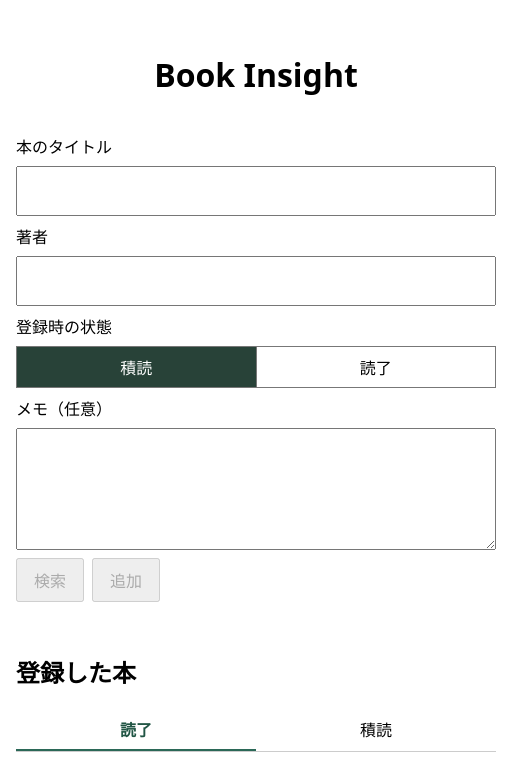
App › 一覧は読了を初期表示し、積読との間で切り替える
Click the button "積読" below "登録した本".
click(376, 730)  # box 256,709 -> 496,751
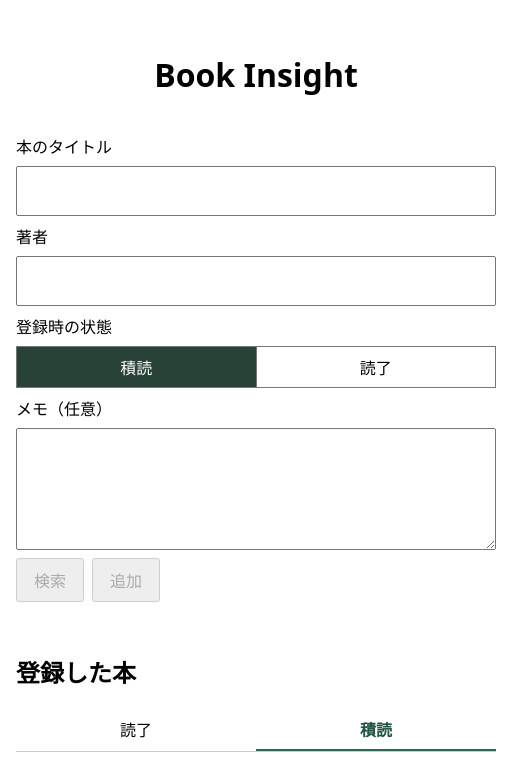
Check: the button "読了の本 / 著者B" is not shown
Check: the button "積読" below "登録した本" is pressed, box 256,709 -> 496,751
Click the button "読了" below "登録した本".
click(136, 730)  # box 16,709 -> 256,751
(page scrolled)
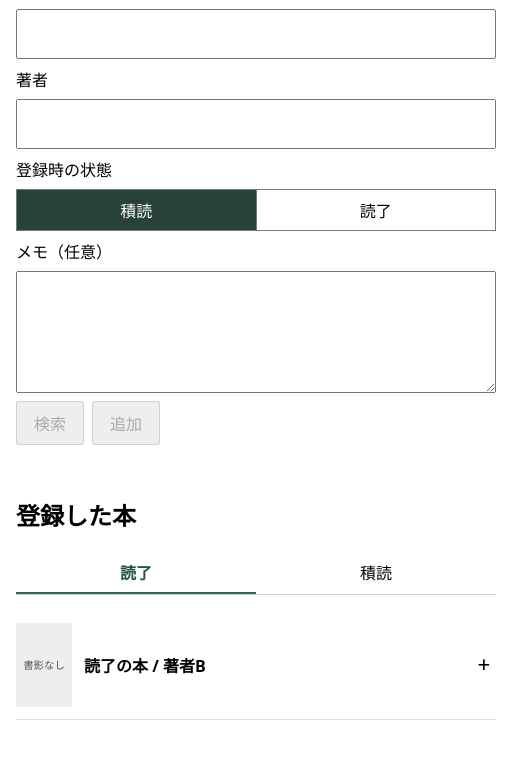
Check: the text "読了の本 / 著者B" is shown, box 84,655 -> 206,677
